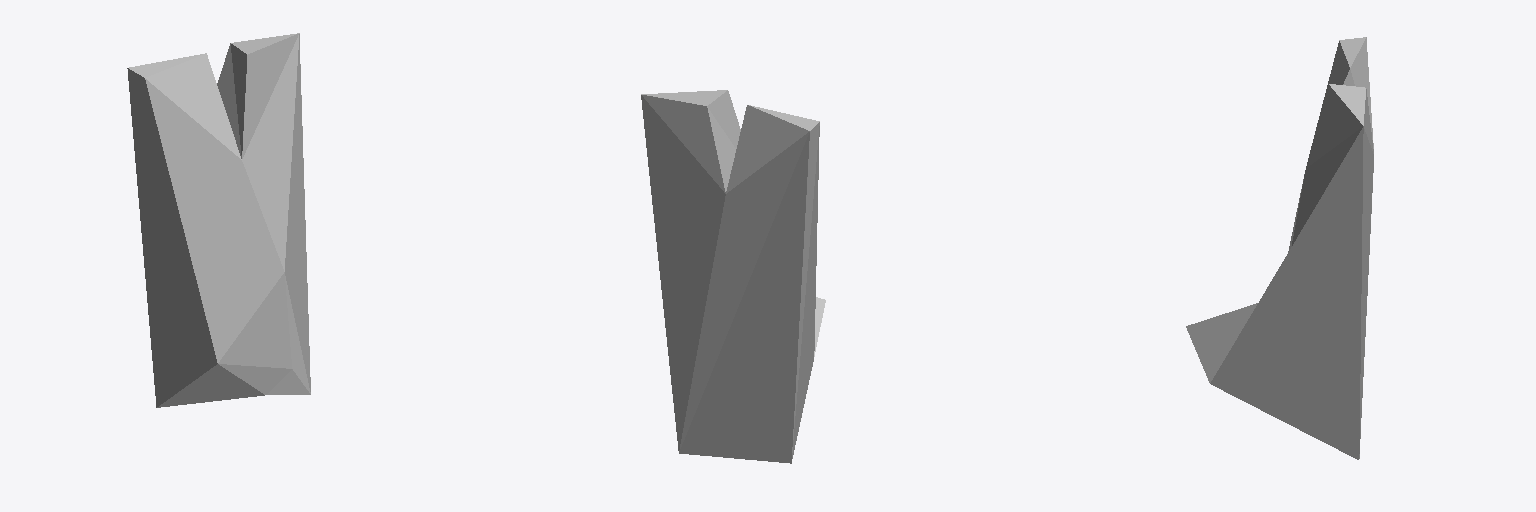
The model's file is rightFoot.obj.
3 views of the same model, side by side, from view 1: azimuth 30°, elevation 25°; view 2: azimuth 150°, elevation 25°; view 3: azimuth 270°, elevation 25° (orthographic).
Visible parts, largest first — view 1: node_shape0.006; view 2: node_shape0.006; view 3: node_shape0.006.
Boxes of the visible parts, <box> form: node_shape0.006: <box>127,33,310,407</box>; node_shape0.006: <box>641,90,825,463</box>; node_shape0.006: <box>1186,37,1373,459</box>.
Size of the model in its own units: 0.1246 by 0.2521 by 0.1193.